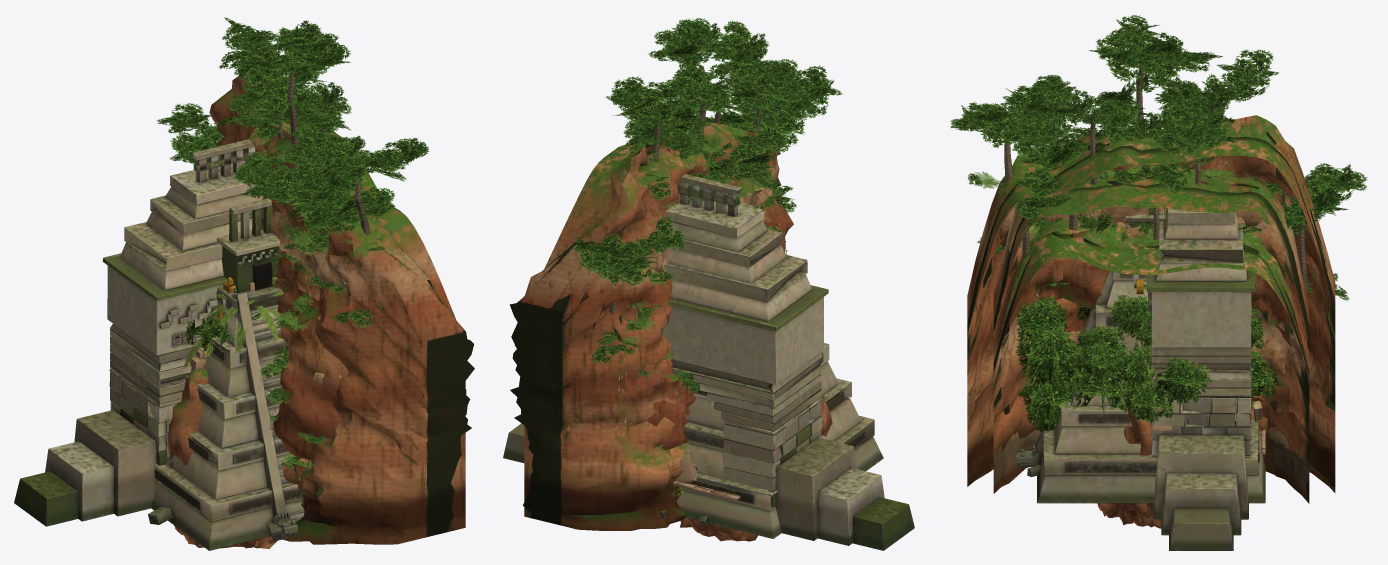
File: kit.mobile.glb
3 renders of one model, left to right at view 1: azimuth 30°, elevation 25°; view 2: azimuth 150°, elevation 25°; view 3: azimuth 270°, elevation 25°, orthographic. The views are drawn at different scales.
Visible parts, largest first — view 1: cliff_wall_2, face_gate_0, temple_0, cliff_wall_2_veg, cliff_wall_1, cliff_wall_1_veg, cliff_wall_0_veg, rock_big_0, cliff_wall_0, palm_2_crown, tree_big_1_crown, cliff_wall_2_trees; view 2: cliff_wall_2, face_gate_0, cliff_wall_2_veg, temple_0, cliff_wall_0_veg, cliff_wall_1_veg, cliff_wall_1, cliff_wall_2_trees, rock_big_0; view 3: face_gate_0, cliff_wall_2, cliff_wall_0, cliff_wall_2_veg, cliff_wall_1, temple_0, jungle_bank_2, cliff_wall_1_veg, cliff_wall_0_veg, canopy_0, jungle_bank_1, jungle_bank_0 (+5 smaller).
Boxes of the visible parts, bbox=[...] form: cliff_wall_2: bbox=[209, 76, 474, 544]; face_gate_0: bbox=[14, 139, 262, 526]; temple_0: bbox=[148, 198, 304, 550]; cliff_wall_2_veg: bbox=[156, 17, 429, 501]; cliff_wall_1: bbox=[261, 197, 351, 508]; cliff_wall_1_veg: bbox=[227, 75, 351, 428]; cliff_wall_0_veg: bbox=[234, 153, 395, 470]; rock_big_0: bbox=[167, 368, 276, 548]; cliff_wall_0: bbox=[280, 250, 341, 484]; palm_2_crown: bbox=[205, 291, 288, 353]; tree_big_1_crown: bbox=[184, 310, 288, 359]; cliff_wall_2_trees: bbox=[288, 71, 369, 235]; cliff_wall_2: bbox=[509, 121, 793, 530]; face_gate_0: bbox=[503, 174, 914, 550]; cliff_wall_2_veg: bbox=[568, 18, 842, 434]; temple_0: bbox=[658, 202, 883, 538]; cliff_wall_0_veg: bbox=[627, 94, 805, 444]; cliff_wall_1_veg: bbox=[623, 62, 784, 392]; cliff_wall_1: bbox=[647, 172, 780, 449]; cliff_wall_2_trees: bbox=[609, 66, 764, 314]; rock_big_0: bbox=[686, 394, 832, 532]; face_gate_0: bbox=[1147, 161, 1255, 550]; cliff_wall_2: bbox=[967, 115, 1335, 492]; cliff_wall_0: bbox=[993, 216, 1309, 503]; cliff_wall_2_veg: bbox=[950, 15, 1367, 300]; cliff_wall_1: bbox=[993, 165, 1309, 474]; temple_0: bbox=[1015, 208, 1265, 503]; jungle_bank_2: bbox=[1015, 296, 1278, 432]; cliff_wall_1_veg: bbox=[1050, 82, 1236, 222]; cliff_wall_0_veg: bbox=[977, 121, 1276, 377]; canopy_0: bbox=[1123, 356, 1213, 422]; jungle_bank_1: bbox=[1021, 325, 1253, 431]; jungle_bank_0: bbox=[1031, 339, 1251, 415].
Bounding box in the file's own units: 31.79 × 38.53 × 30.14.
Materials: 13 (13 with a texture image).
